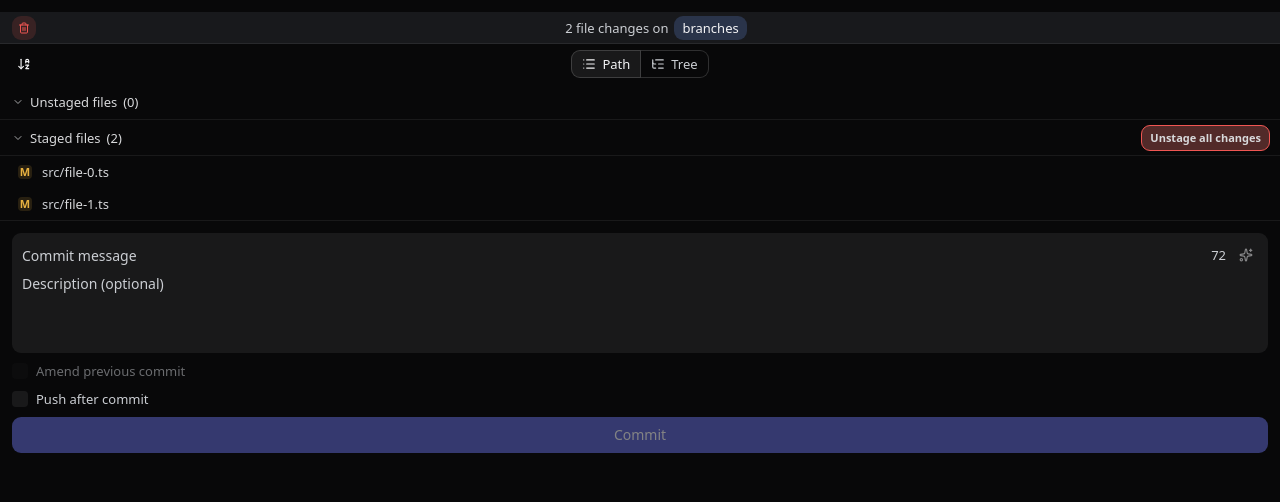
Test: the header of the working tree panel › the tree view gathers the files under their directory and keeps it collapsed until it is opened
What coordinates should you click on to do the following:
click the radio button labelled "Tree"
I would click on:
 (675, 64)
Its box is [641,50,709,78].
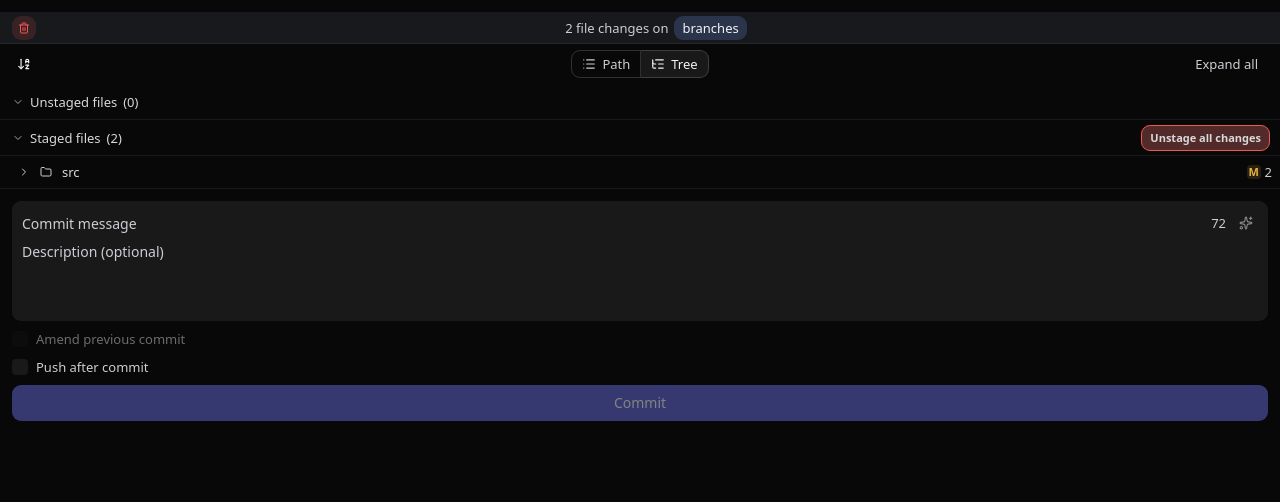
Expected: the text "src" is shown, [62,162,80,182]
Now the option "file-0.ts" is gone
What coordinates should you click on to do the following:
click the button "Expand all"
I would click on:
 (1227, 64)
Its box is [1185,50,1268,78].
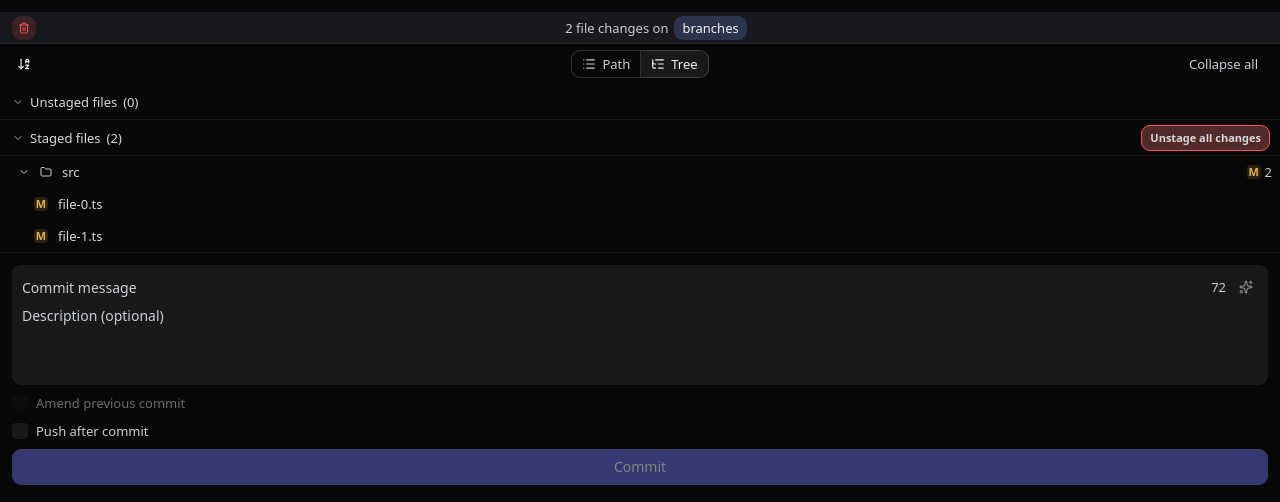
Now the text "file-0.ts" is shown, box [58,194,102,214]
